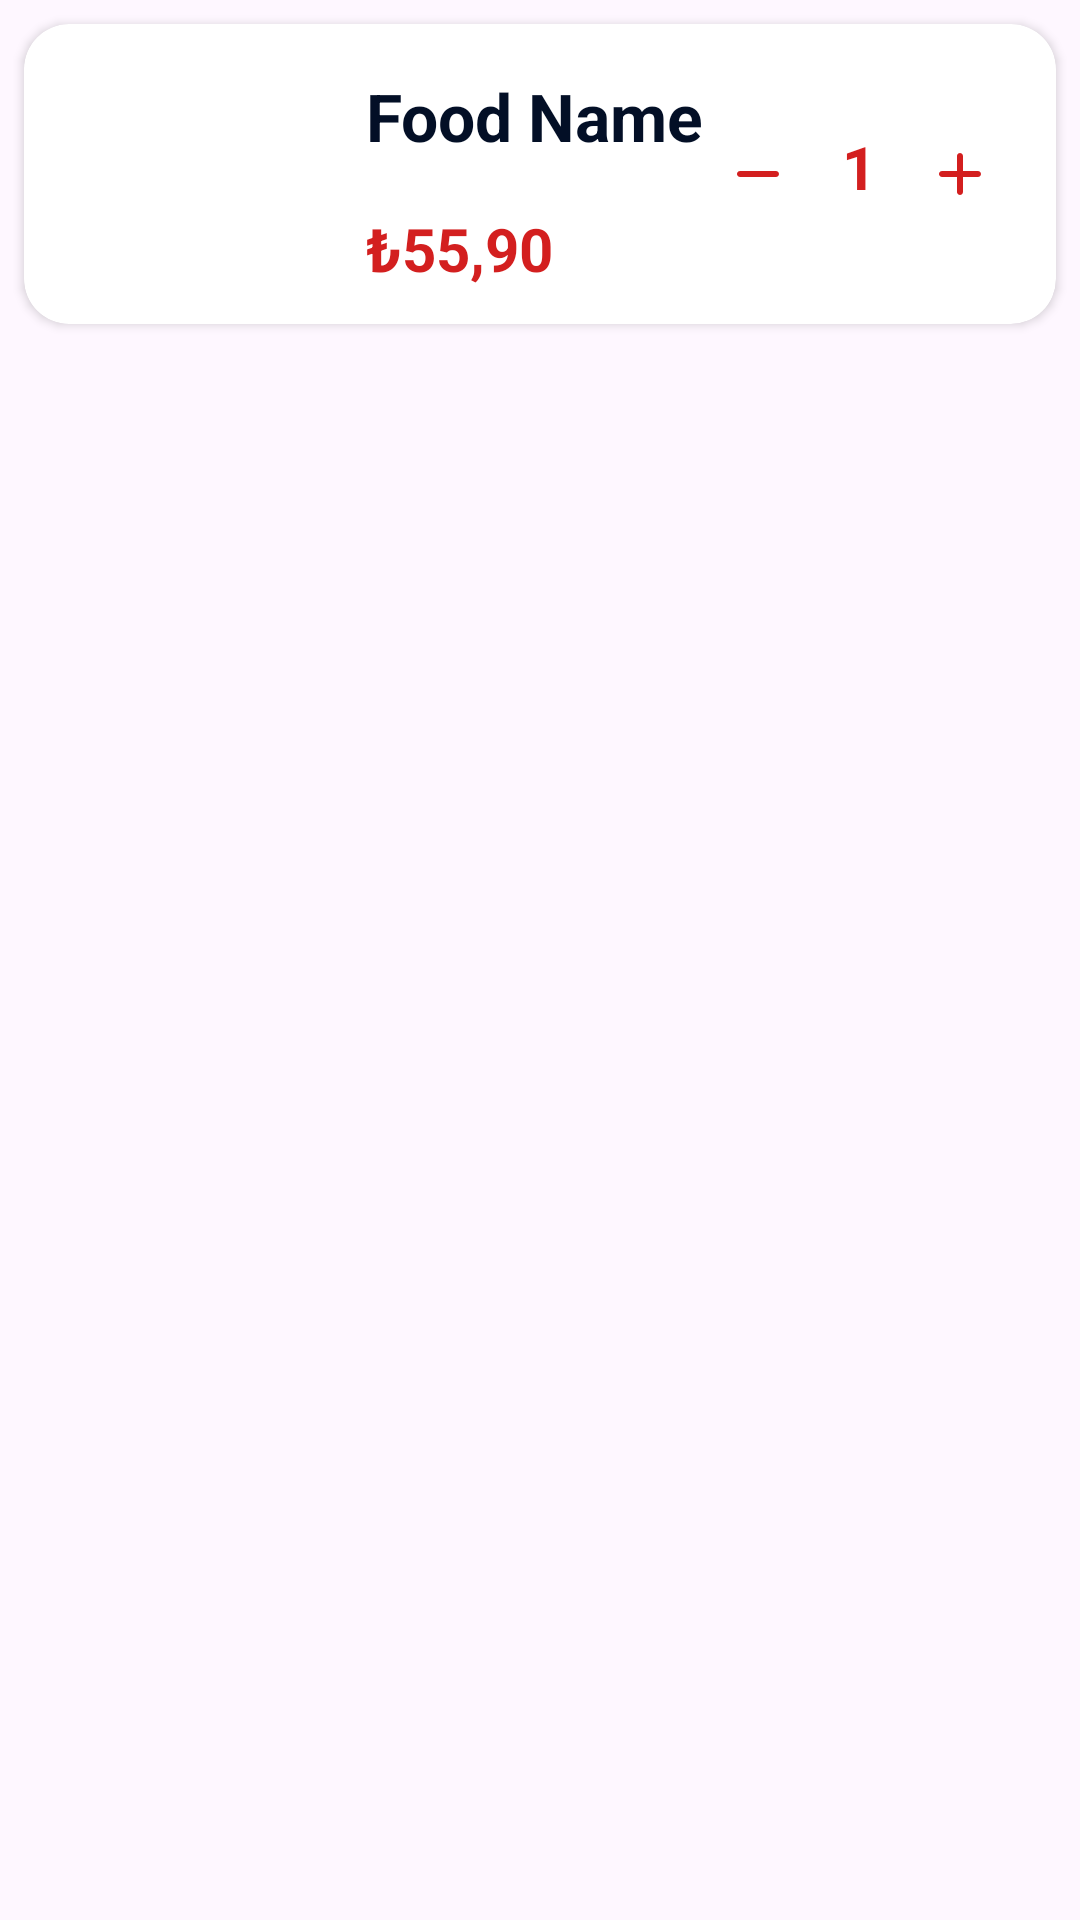

Locate icon controls on the screen. Image size 1080 x 1920, boxes as (x1, y1, x2, y2).
plus: (939, 153, 981, 195)
